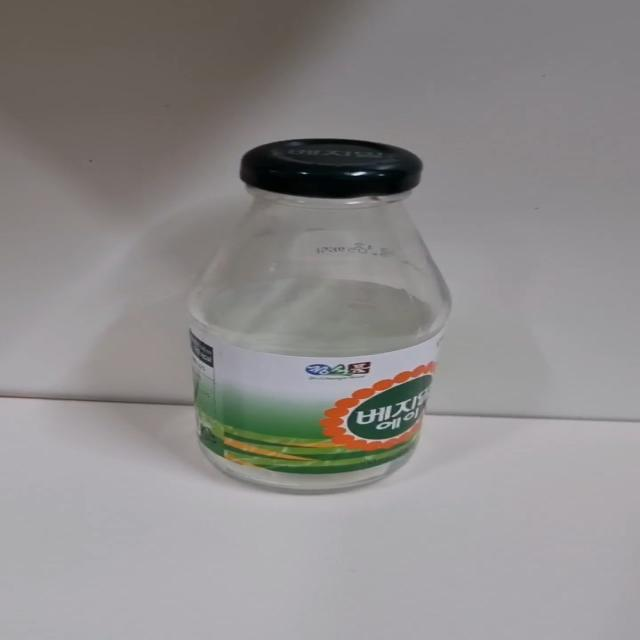Glass: (185, 138, 453, 497)
